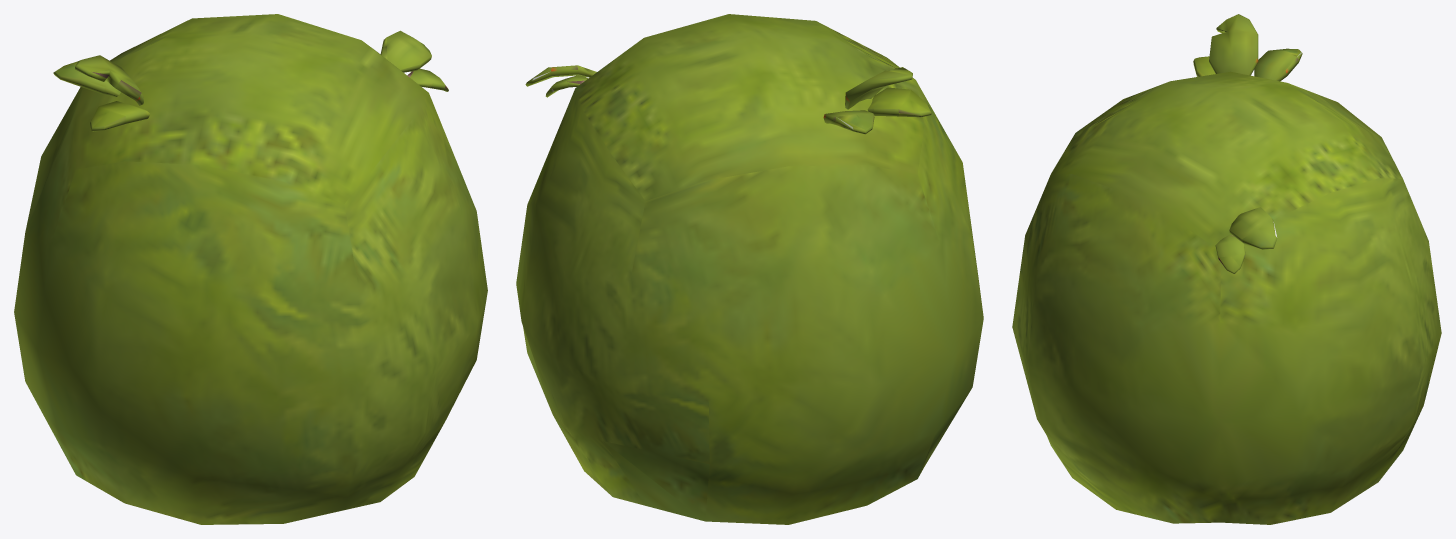
The model's file is arbuato1.fbx.
3 views of the same model, side by side, from view 1: azimuth 30°, elevation 25°; view 2: azimuth 150°, elevation 25°; view 3: azimuth 270°, elevation 25° (orthographic). The views are drawn at different scales.
Visible parts, largest first — view 1: sm_arbusto; view 2: sm_arbusto; view 3: sm_arbusto.
Part boxes in pixels (x1=…): sm_arbusto: x1=14, y1=14, x2=487, y2=524; sm_arbusto: x1=516, y1=14, x2=983, y2=524; sm_arbusto: x1=1012, y1=14, x2=1441, y2=524.
Bounding box in the file's own units: 172 × 173 × 172.
1 material, 1 textured.
